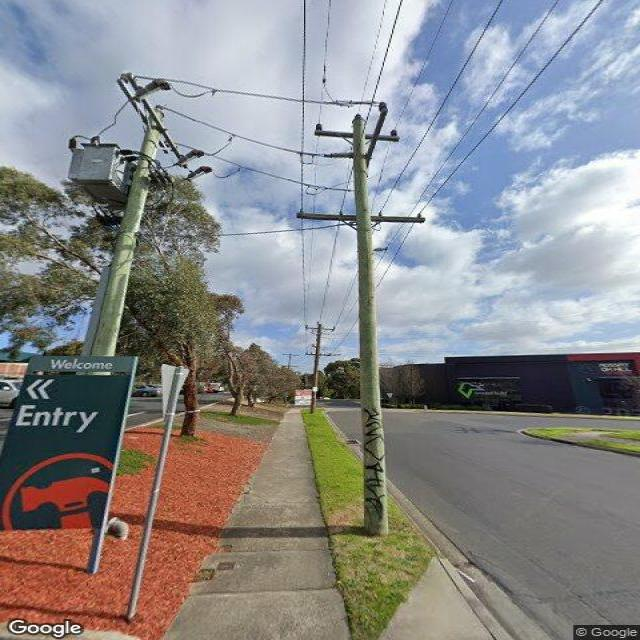HV-transmission: (115, 70, 241, 182), (302, 103, 401, 195)
crossarm: (126, 72, 189, 170), (116, 78, 168, 154), (296, 211, 426, 225), (364, 108, 390, 170), (313, 129, 400, 142), (305, 324, 335, 332), (306, 353, 332, 356)
timber-pole: (88, 107, 158, 354), (351, 114, 390, 537), (310, 324, 322, 414)
transformer: (68, 134, 176, 210)
